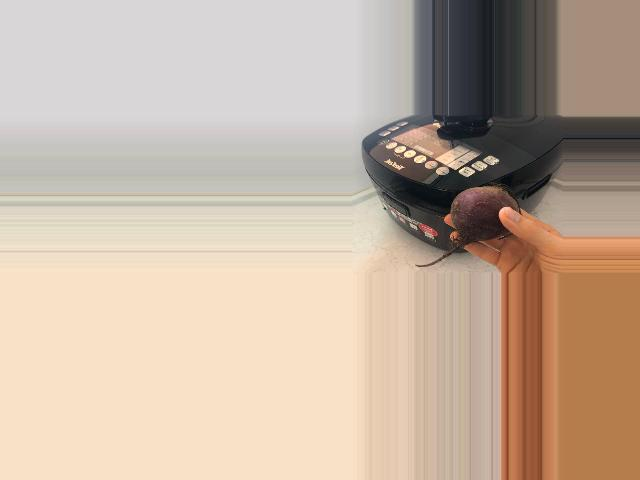beet: (415, 183, 520, 267)
